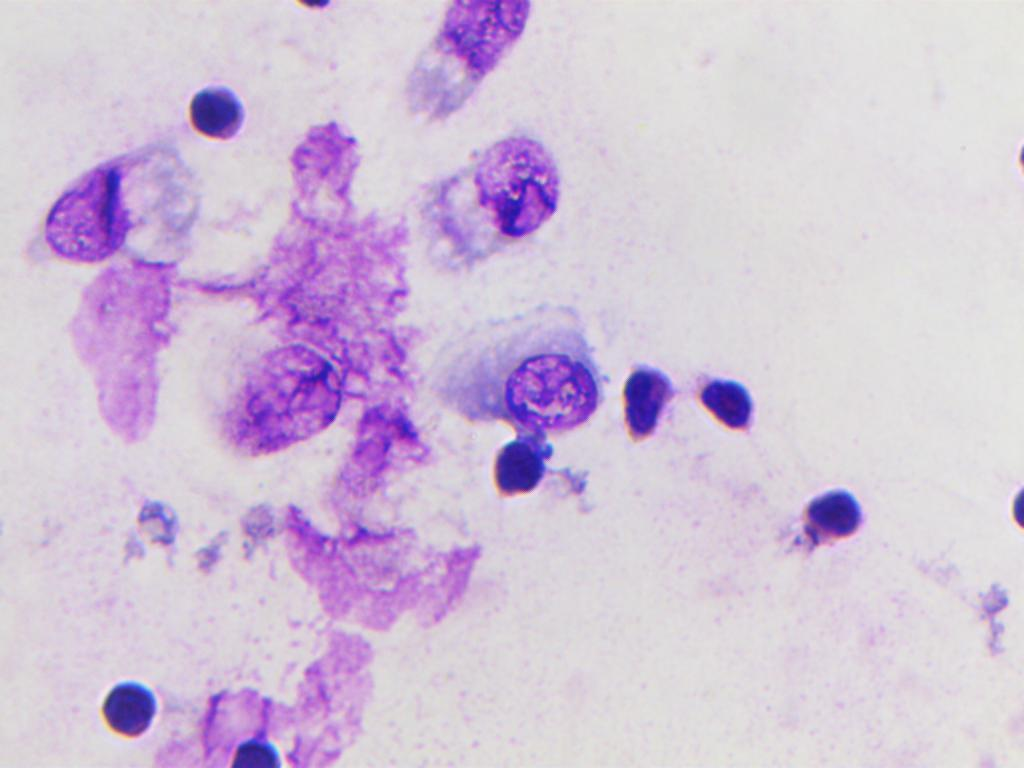epithelial: (209, 333, 352, 468)
goblet_cell: (420, 120, 590, 284), (421, 302, 608, 431), (29, 132, 194, 267)
neutrophil: (789, 474, 871, 565), (474, 431, 562, 508), (179, 70, 251, 157), (93, 674, 165, 761), (695, 352, 756, 438), (618, 358, 679, 444), (226, 718, 296, 768)
